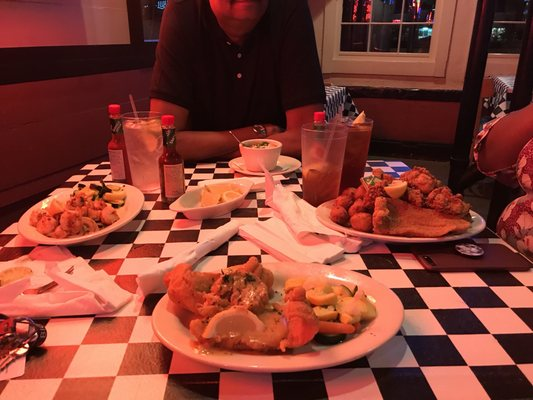pizza: (300, 121, 349, 207), (122, 115, 164, 197), (341, 120, 374, 191), (238, 138, 283, 174)
sushi: (18, 180, 145, 246), (171, 178, 255, 220)
